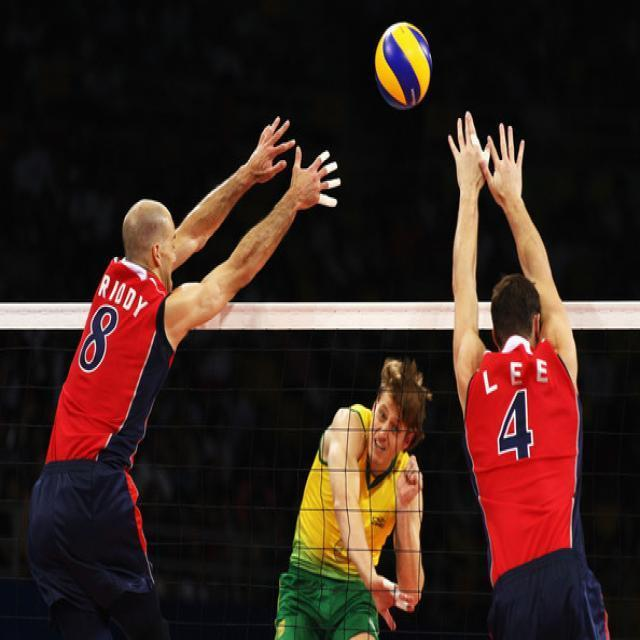volleyball: (374, 22, 433, 110)
